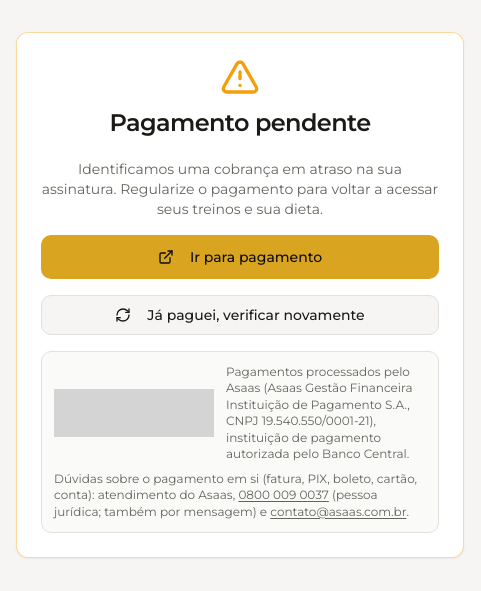
Test: AlunoBillingGate › não diz que está tudo certo quando não conseguiu consultar
What coordinates should you click on to do the following:
click the button "Já paguei, verificar novamente"
I would click on:
 (240, 315)
Its box is 41,295 -> 439,335.
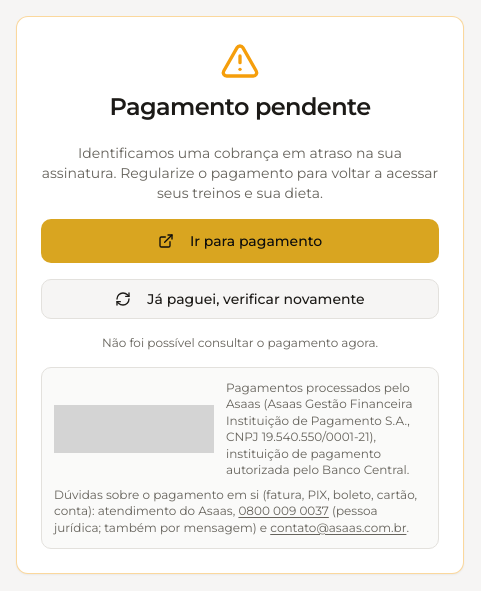
Now the text "Não foi possível consultar o pagamento agora." is shown, box 102,335 -> 378,350
